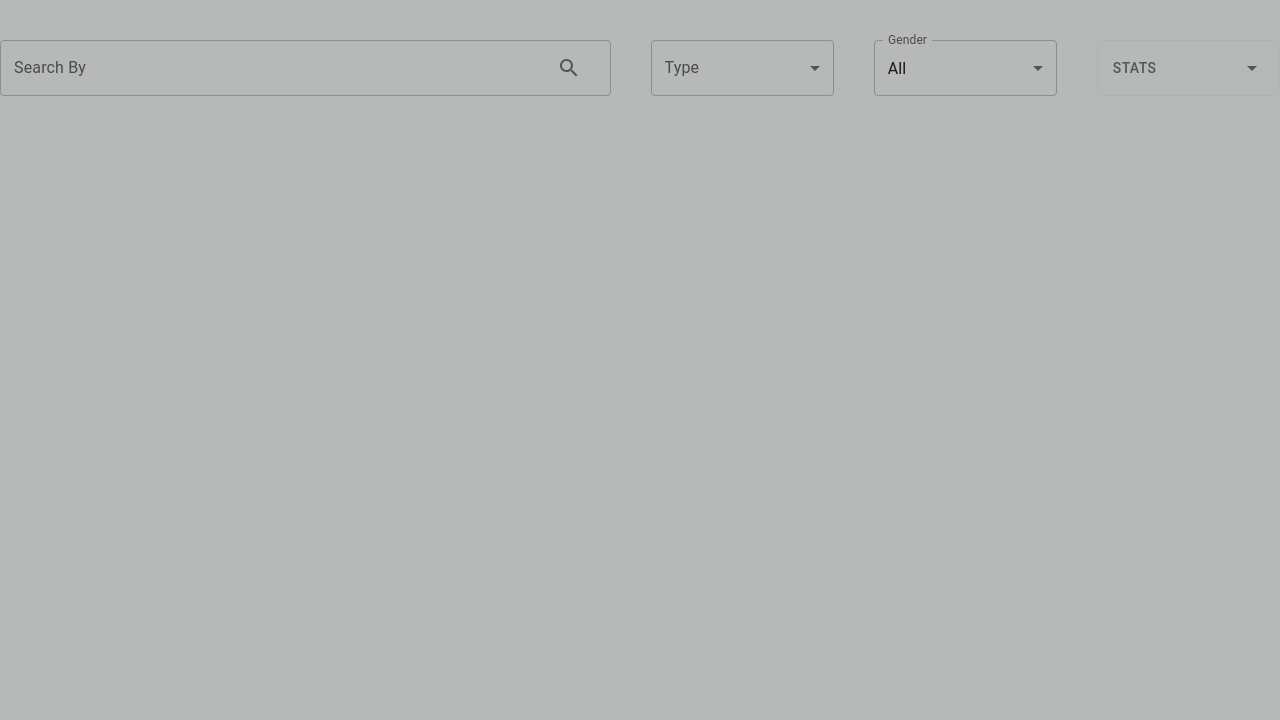
Test case: FullWidthTextField › renders multi-select for types with correct options
Press the mouse on the dropdown named "Type" at (742,68), box [650,40,834,96]
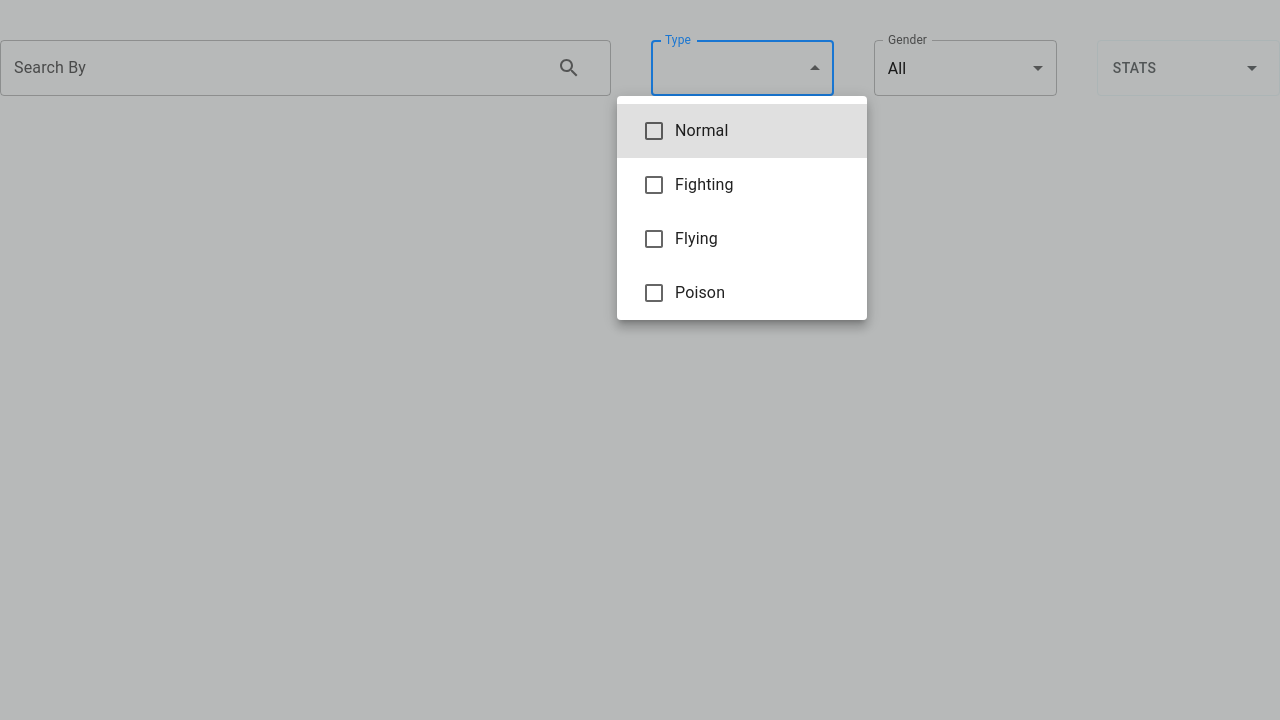
Expected: the option "Normal" is shown, [617,104,867,158]
Expected: the option "Fighting" is shown, [642,173,734,197]
Expected: the option "Flying" is shown, [642,227,718,251]
